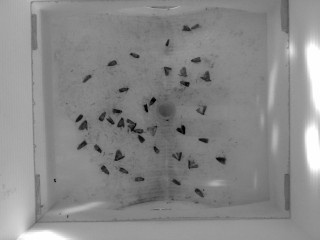insect: (198, 68, 212, 82), (113, 148, 125, 162), (177, 65, 189, 78), (170, 150, 183, 162), (186, 157, 199, 169), (193, 186, 205, 199), (193, 104, 207, 115), (146, 124, 158, 136), (75, 139, 87, 151), (174, 124, 187, 135), (81, 73, 93, 84), (77, 118, 88, 130), (99, 163, 110, 175), (162, 64, 172, 77), (214, 155, 227, 165), (189, 54, 203, 63), (92, 142, 103, 153), (97, 110, 107, 122), (116, 85, 130, 93), (180, 23, 192, 32), (178, 78, 190, 87), (115, 116, 124, 128), (117, 166, 129, 175), (170, 177, 182, 186), (128, 51, 141, 59), (105, 59, 118, 67), (105, 115, 115, 125), (136, 134, 146, 144), (147, 95, 156, 106), (74, 112, 83, 123), (197, 136, 209, 144), (127, 123, 137, 132), (110, 107, 122, 114), (190, 22, 199, 31), (152, 145, 161, 154), (142, 102, 149, 113), (133, 175, 144, 182), (164, 37, 171, 47), (126, 117, 136, 124), (133, 128, 144, 133)
